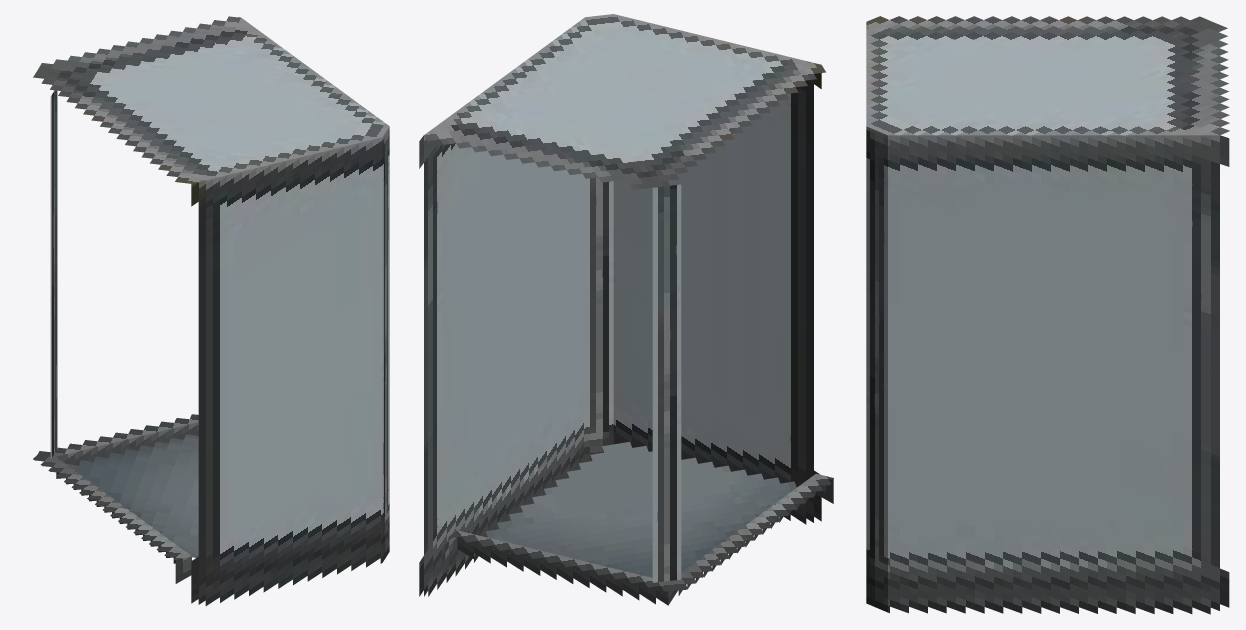
Rendered from WaveDisplay.glb.
3 views of the same model, side by side, from view 1: azimuth 30°, elevation 25°; view 2: azimuth 150°, elevation 25°; view 3: azimuth 270°, elevation 25° (orthographic). The views are drawn at different scales.
Parts seen in each view (by area): view 1: 25DBG_BaseCamp01_Prop_Display_1; view 2: 25DBG_BaseCamp01_Prop_Display_1; view 3: 25DBG_BaseCamp01_Prop_Display_1.
Boxes of the visible parts, x1,y1,x2,y2 form: 25DBG_BaseCamp01_Prop_Display_1: (33,16,389,605); 25DBG_BaseCamp01_Prop_Display_1: (419,14,833,605); 25DBG_BaseCamp01_Prop_Display_1: (866,16,1229,614).
Bounding box in the file's own units: 0.9384 × 1.71 × 1.18.
Materials: 1 (1 with a texture image).
